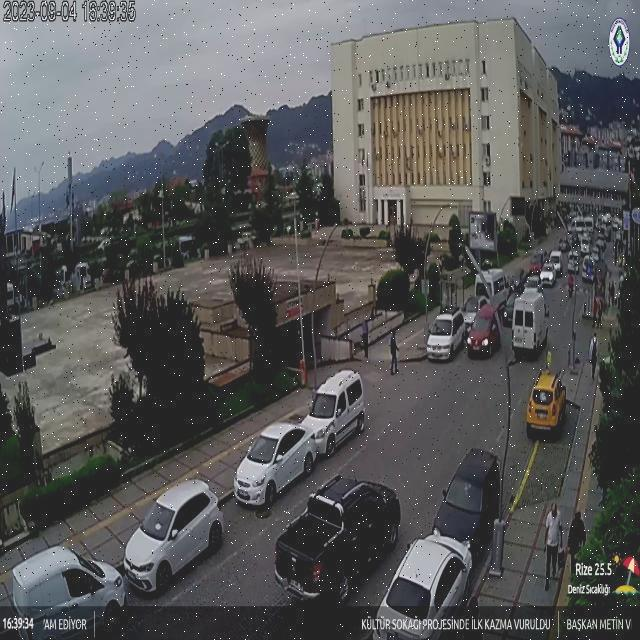Car: (270, 475, 398, 607), (122, 476, 224, 593), (376, 534, 477, 638), (232, 421, 320, 507), (430, 449, 500, 554), (302, 370, 366, 456), (523, 371, 567, 436), (425, 308, 466, 360), (466, 304, 502, 359), (459, 295, 482, 332), (581, 257, 597, 283), (548, 250, 564, 274), (540, 264, 556, 286), (567, 253, 580, 273), (525, 274, 540, 290), (528, 260, 542, 276), (580, 238, 592, 255), (595, 236, 606, 253), (559, 240, 570, 252)
Van: (8, 546, 124, 635), (511, 289, 549, 358), (472, 268, 508, 318)
